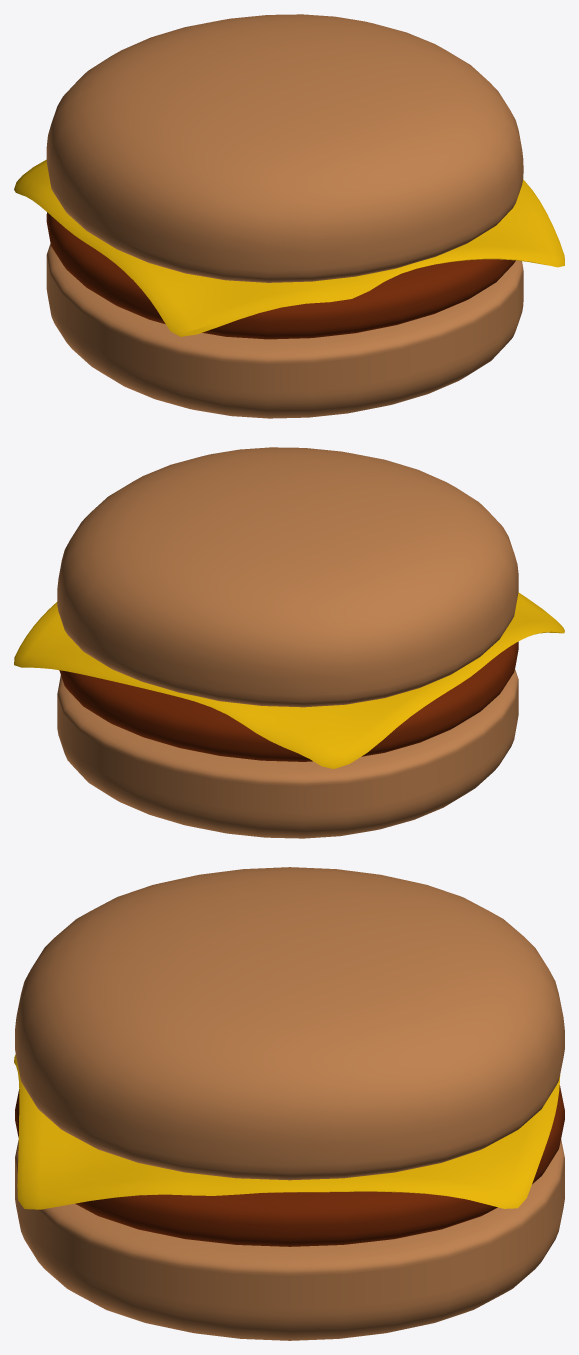
Rendered from Burger.glb.
3 renders of one model, top to bottom at view 1: azimuth 30°, elevation 25°; view 2: azimuth 150°, elevation 25°; view 3: azimuth 270°, elevation 25°, orthographic. The views are drawn at different scales.
Parts seen in each view (by area): view 1: Cube.002, Cube, Plane, Cube.001; view 2: Cube.002, Cube, Plane, Cube.001; view 3: Cube.002, Cube, Plane, Cube.001.
Boxes of the visible parts, bbox=[...] form: Cube.002: bbox=[46, 14, 523, 282]; Cube: bbox=[46, 243, 523, 418]; Plane: bbox=[14, 159, 564, 336]; Cube.001: bbox=[46, 212, 515, 339]; Cube.002: bbox=[57, 447, 518, 707]; Cube: bbox=[57, 669, 518, 838]; Plane: bbox=[14, 592, 564, 768]; Cube.001: bbox=[59, 641, 518, 761]; Cube.002: bbox=[15, 867, 564, 1180]; Cube: bbox=[15, 1139, 564, 1340]; Plane: bbox=[14, 1054, 560, 1209]; Cube.001: bbox=[15, 1085, 564, 1246].
Bounding box in the file's own units: 0.3667 × 0.244 × 0.3673.
